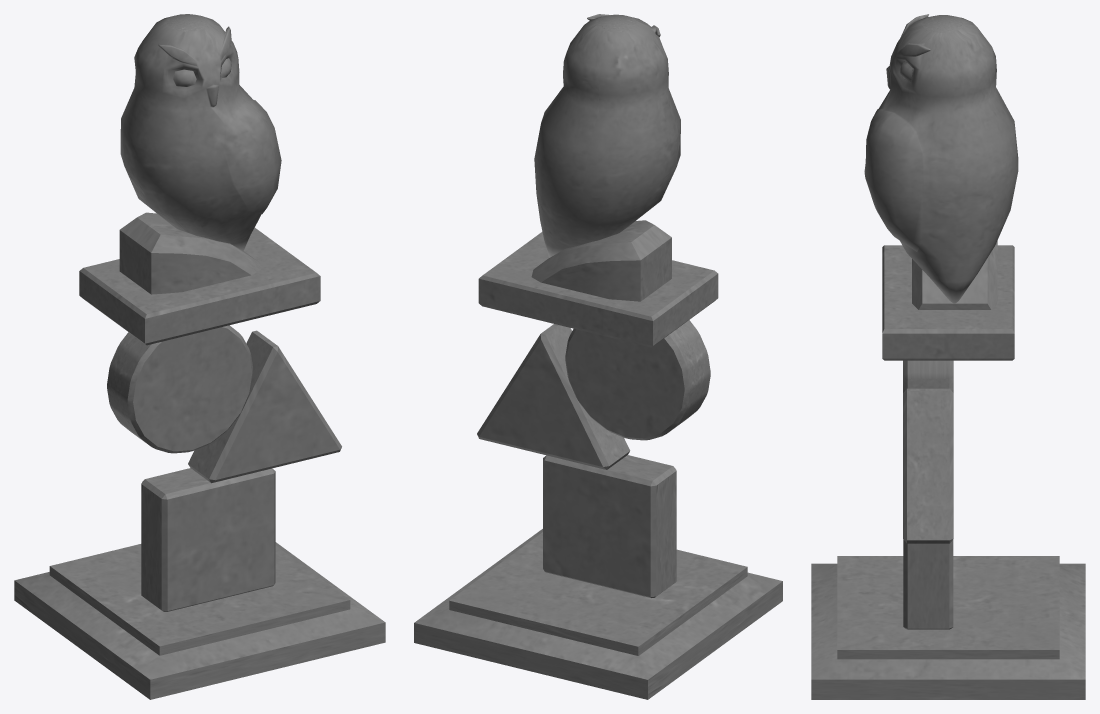
Rendered from fbx_plaza_statue.fbx.
The picture shows the model from 3 angles, left to right: view 1: azimuth 30°, elevation 25°; view 2: azimuth 150°, elevation 25°; view 3: azimuth 270°, elevation 25°; orthographic projection.
Parts seen in each view (by area): view 1: fbx_plaza_statue; view 2: fbx_plaza_statue; view 3: fbx_plaza_statue.
Boxes of the visible parts, x1=… form: fbx_plaza_statue: x1=14, y1=14, x2=385, y2=699; fbx_plaza_statue: x1=414, y1=14, x2=782, y2=699; fbx_plaza_statue: x1=811, y1=14, x2=1085, y2=699.
Bounding box in the file's own units: 3.07 × 7.44 × 3.02.
1 material, 1 textured.
